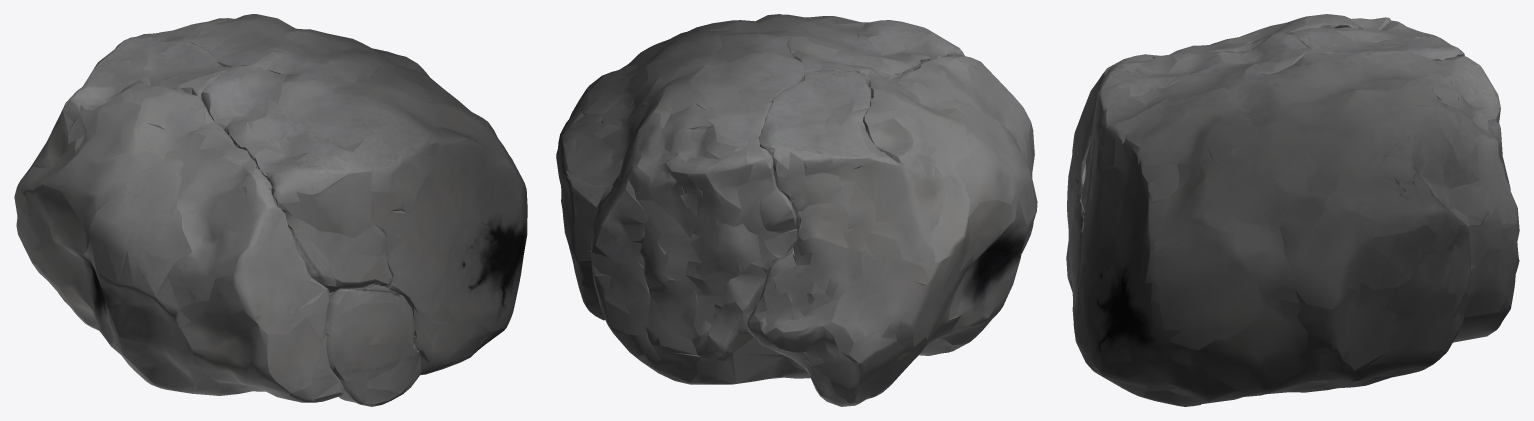
Rendered from camp_stone.glb.
3 views of the same model, side by side, from view 1: azimuth 30°, elevation 25°; view 2: azimuth 150°, elevation 25°; view 3: azimuth 270°, elevation 25° (orthographic). The views are drawn at different scales.
Bounding box in the file's own units: 1.9 × 1.23 × 1.76.
1 material, 1 textured.
